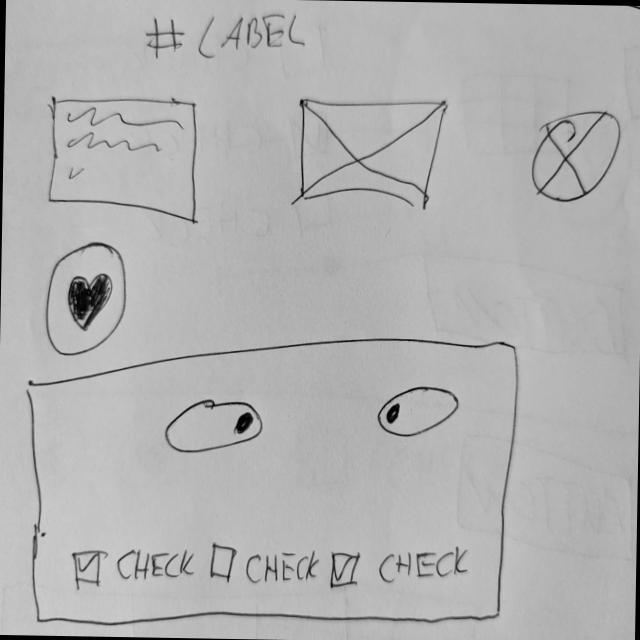checkbox: (327, 544, 473, 597), (70, 541, 198, 590), (206, 542, 322, 593)
container: (21, 328, 523, 636)
icon-button: (42, 238, 130, 360)
image: (295, 94, 449, 216), (530, 105, 625, 210)
label: (143, 6, 309, 63)
textarea: (45, 92, 204, 227)
toggle: (161, 397, 266, 459), (374, 383, 461, 444)
